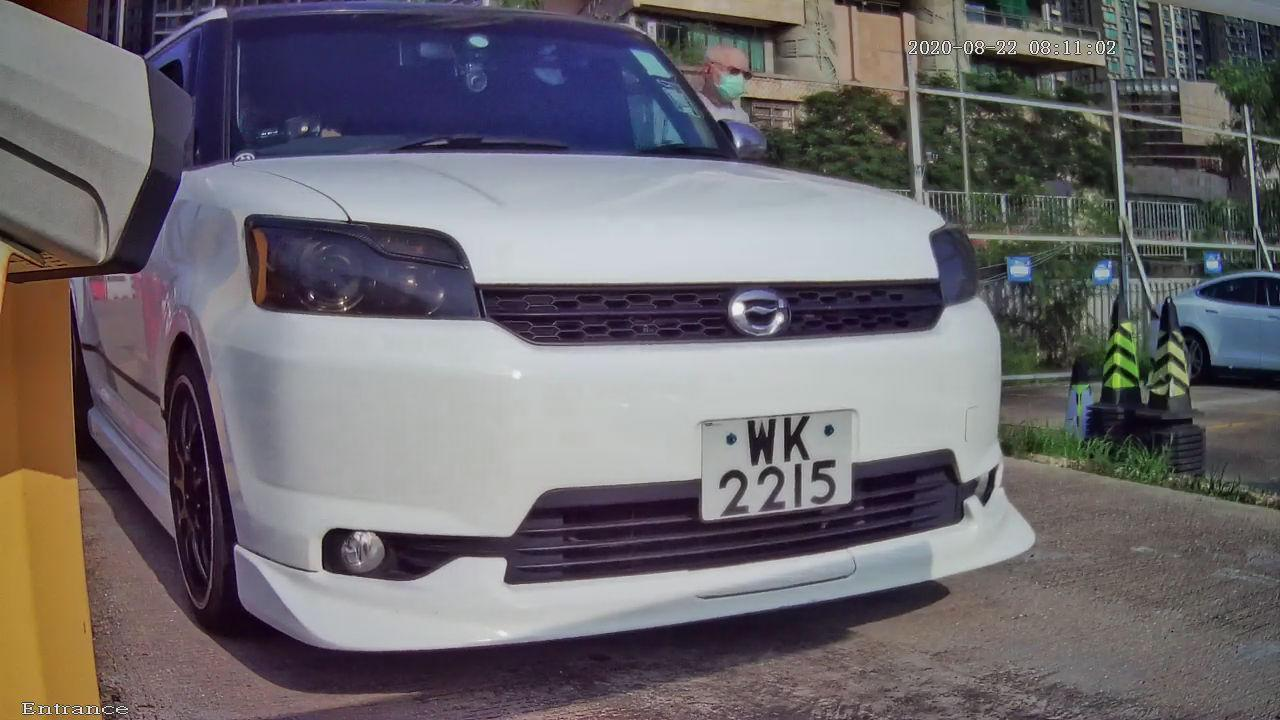Car: (12, 1, 1138, 692)
License Plate: (681, 399, 875, 534)
